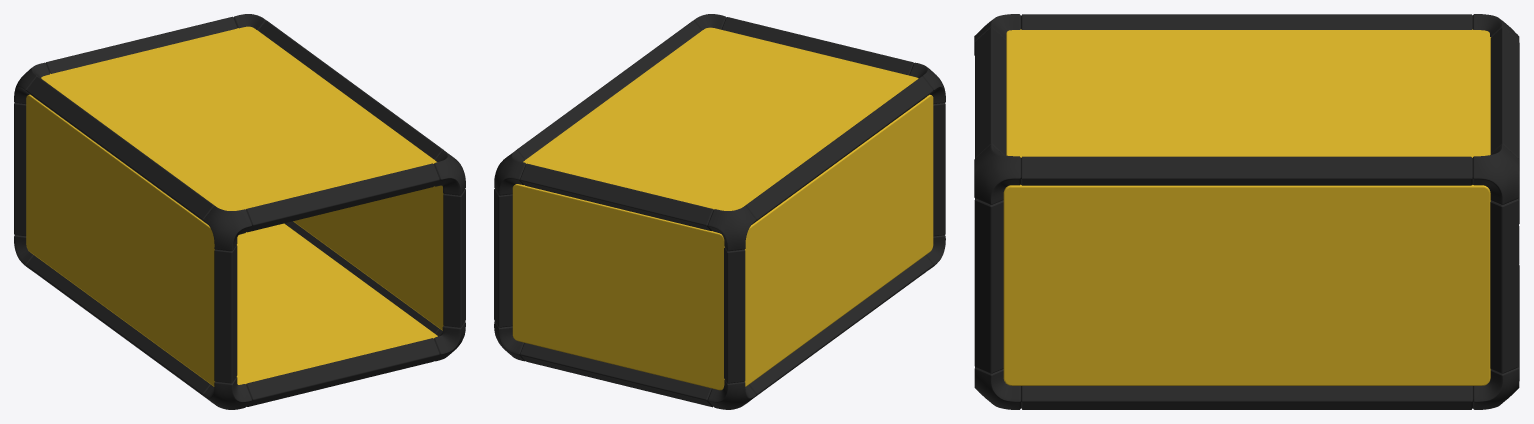
The picture shows the model from 3 angles, left to right: view 1: azimuth 30°, elevation 25°; view 2: azimuth 150°, elevation 25°; view 3: azimuth 270°, elevation 25°; orthographic projection. The views are drawn at different scales.
Visible parts, largest first — view 1: 229x374x154; view 2: 229x374x154; view 3: 229x374x154.
Part boxes in pixels (left/top/right/bottom): 229x374x154: left=14, top=14, right=465, bottom=409; 229x374x154: left=494, top=14, right=945, bottom=409; 229x374x154: left=974, top=14, right=1519, bottom=409.
Size of the model in its own units: 0.3067 by 0.2317 by 0.4513.
